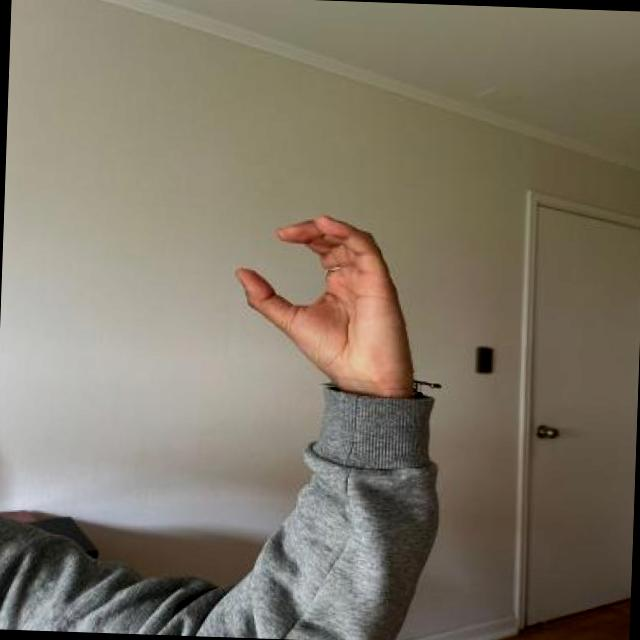C: (227, 208, 432, 392)
